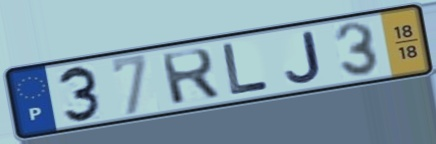3: (333, 20, 381, 81), (57, 63, 102, 125)
7: (109, 53, 152, 116)
J: (283, 29, 324, 85)
L: (220, 41, 273, 98)
R: (158, 46, 223, 107)
